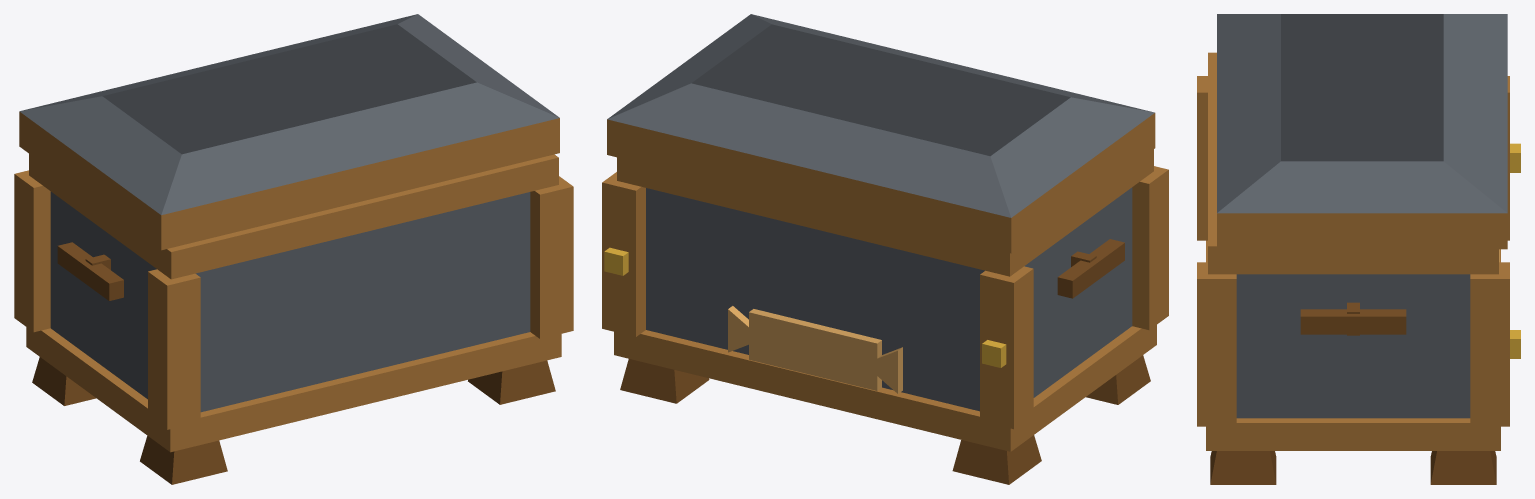
File: PR_ArmoryChest_A.fbx
The picture shows the model from 3 angles, left to right: view 1: azimuth 30°, elevation 25°; view 2: azimuth 150°, elevation 25°; view 3: azimuth 270°, elevation 25°; orthographic projection. The views are drawn at different scales.
Visible parts, largest first — view 1: Body, Lid; view 2: Body, Lid; view 3: Body, Lid.
Boxes of the visible parts, <box> form: Body: <box>14,154,573,484</box>; Lid: <box>19,14,559,250</box>; Body: <box>602,149,1168,484</box>; Lid: <box>607,14,1155,253</box>; Body: <box>1197,52,1520,484</box>; Lid: <box>1217,14,1507,249</box>.
Bounding box in the file's own units: 1.13 × 0.735 × 0.785.
